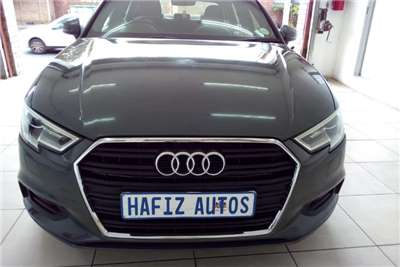audi: (151, 150, 229, 180)
